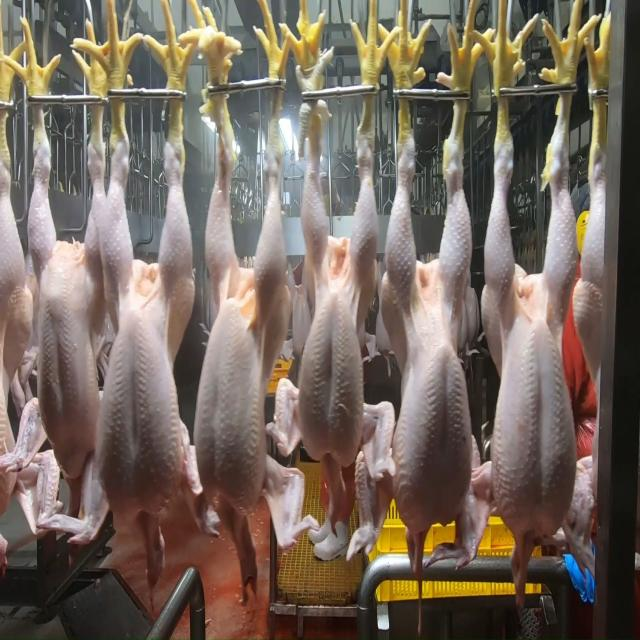chicken: (490, 82, 580, 530), (93, 138, 189, 529), (194, 130, 286, 515), (391, 116, 474, 528), (294, 100, 380, 472), (28, 119, 108, 479)
